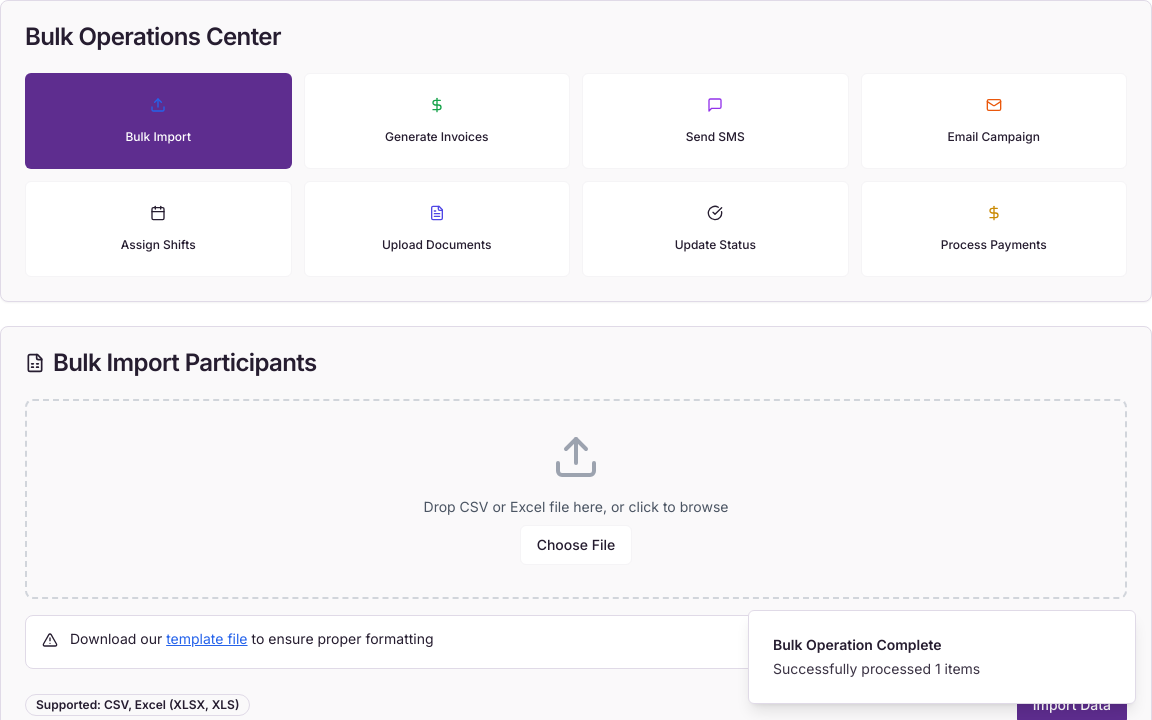
BulkOperations Component › Integration Tests › handles SMS campaign with template selection
# Switch to SMS
Click the button "Send SMS": (715, 136) [582,73,848,169]
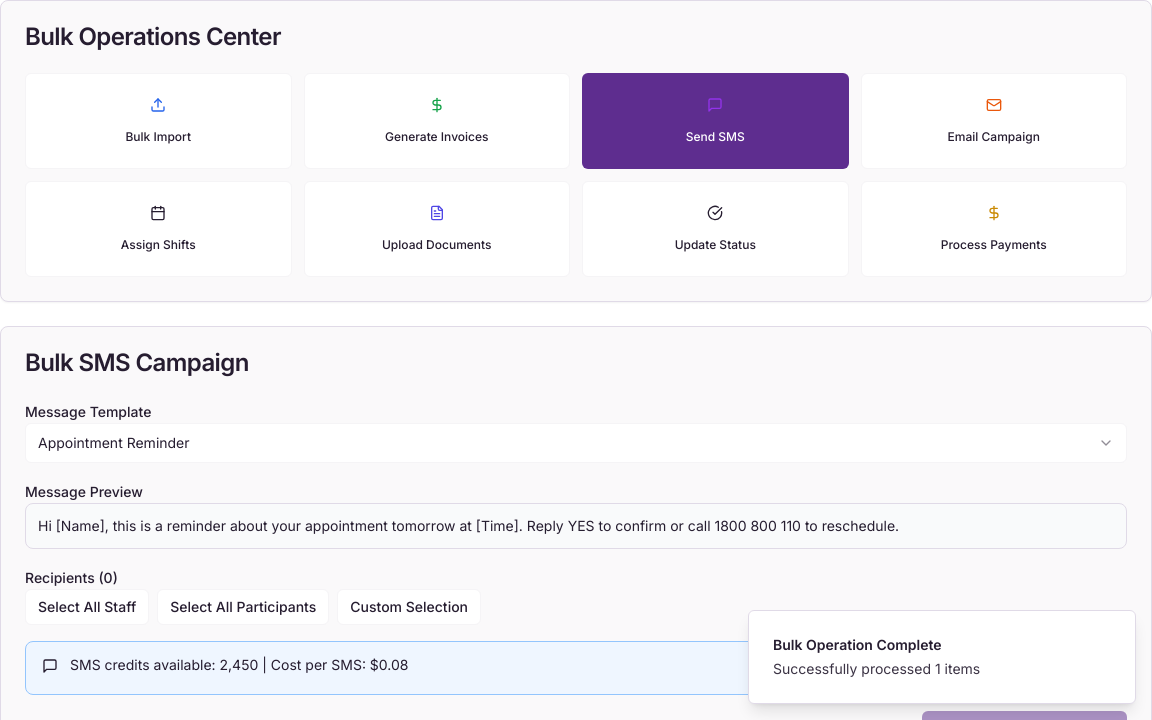
expect the text "Bulk SMS Campaign" is shown: met, box [25,348,249,377]
expect the text "SMS credits available: 2,450 | Cost per SMS: $0.08" is shown: met, box [70,656,408,673]
